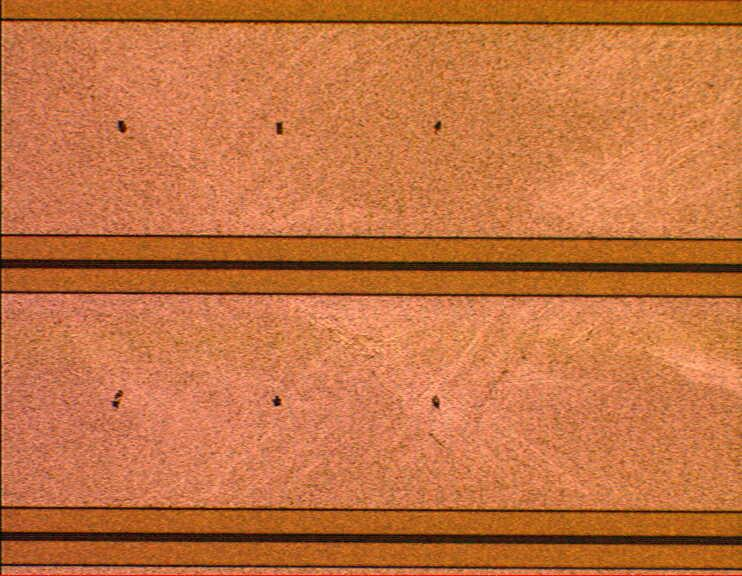SCRATCH: (6, 2, 742, 504)
